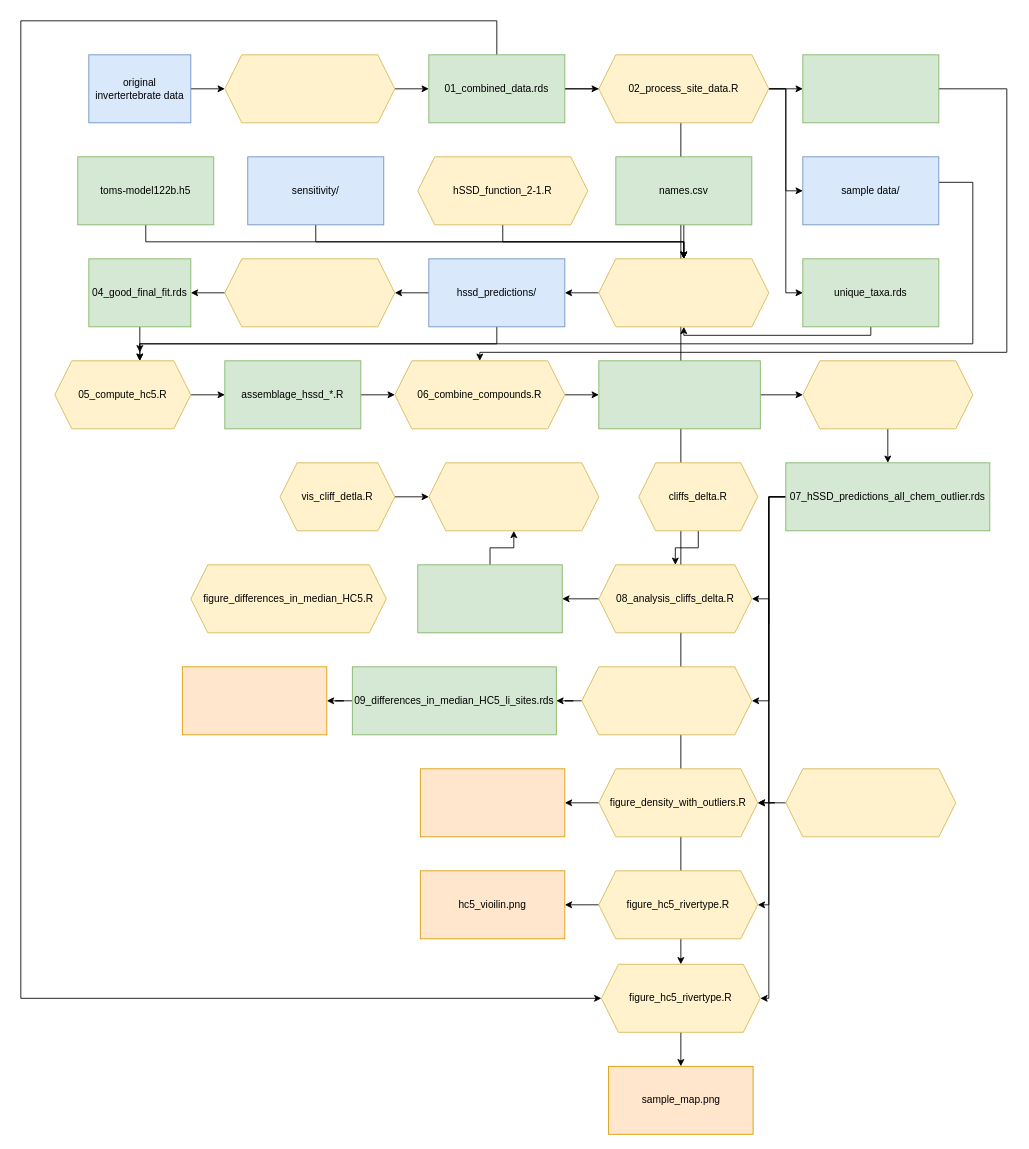
Image size: 1029x1149. Some labels were removed from this diagram. Here are the shapes that lost their labels. From the top down, the centre of each, then its label:
At (309,88): "01_combine_data_sets.R".
At (870,88): "sample_properties.rds".
At (309,292): "04_check_mcmc.R".
At (683,292): "03_hSSD_predict.R".
At (679,394): "06_hSSD_predictions_all_chem.rds".
At (887,394): "07_id_outliers,R".
At (513,496): "figure_cliffs_delta.R".
At (489,598): "08_results_cliffs_delta.rds".
At (254,700): "density_curves.png".
At (666,700): "09_differences_in_median_HC5.R".
At (492,802): "variation_in_median_hc5.png".
At (870,802): "vis_outlier_plot.R".
